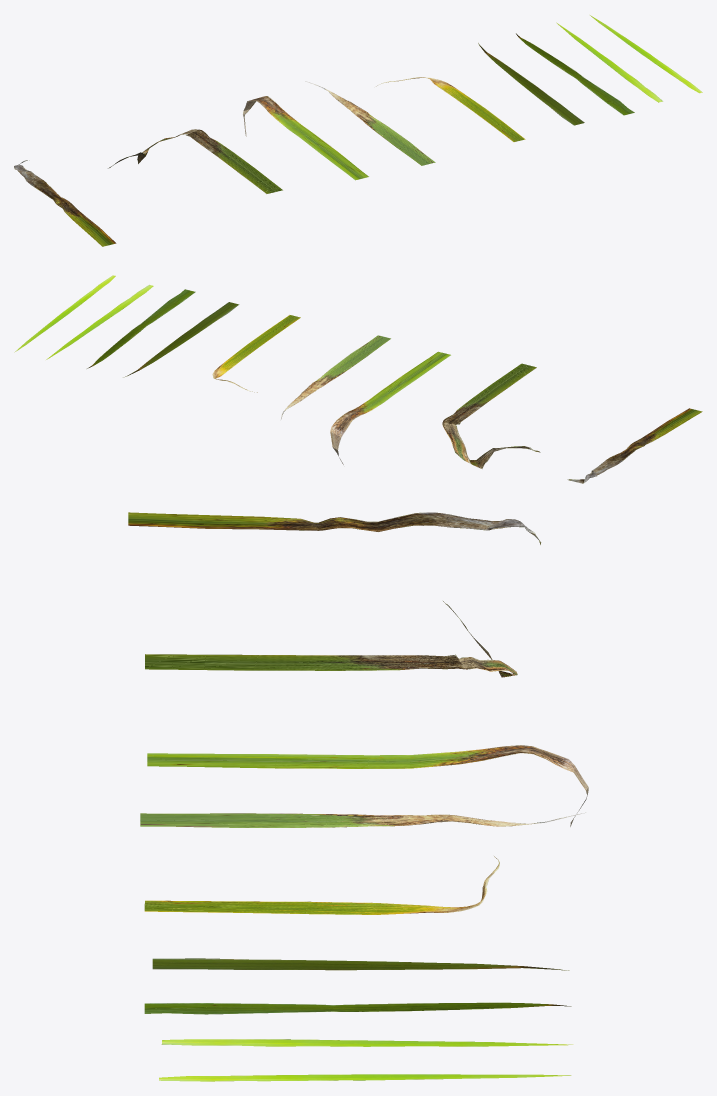
File: ryncho_v2.fbx
3 renders of one model, top to bottom at view 1: azimuth 30°, elevation 25°; view 2: azimuth 150°, elevation 25°; view 3: azimuth 270°, elevation 25°, orthographic. The views are drawn at different scales.
Parts seen in each view (by area): view 1: 7Ryncho (1), 9Ryncho (1), 9Ryncho (2), 5Ryncho (1), 3Ryncho (1), 1Ryncho (1), 1Ryncho (2), 0Ryncho (2), 0Ryncho (1); view 2: 9Ryncho (1), 7Ryncho (1), 9Ryncho (2), 5Ryncho (1), 3Ryncho (1), 1Ryncho (1), 1Ryncho (2), 0Ryncho (2), 0Ryncho (1); view 3: 7Ryncho (1), 9Ryncho (1), 9Ryncho (2), 5Ryncho (1), 3Ryncho (1), 1Ryncho (1), 1Ryncho (2), 0Ryncho (2), 0Ryncho (1).
Boxes of the visible parts, <box> form: 7Ryncho (1): <box>243,96,360,173</box>; 9Ryncho (1): <box>108,129,275,188</box>; 9Ryncho (2): <box>14,160,108,239</box>; 5Ryncho (1): <box>305,81,426,159</box>; 3Ryncho (1): <box>376,77,518,136</box>; 1Ryncho (1): <box>516,33,628,111</box>; 1Ryncho (2): <box>478,43,572,116</box>; 0Ryncho (2): <box>556,22,653,95</box>; 0Ryncho (1): <box>590,15,693,87</box>; 9Ryncho (1): <box>442,368,540,468</box>; 7Ryncho (1): <box>330,358,441,464</box>; 9Ryncho (2): <box>567,414,692,483</box>; 5Ryncho (1): <box>281,341,382,419</box>; 3Ryncho (1): <box>212,320,293,392</box>; 1Ryncho (1): <box>87,293,189,368</box>; 1Ryncho (2): <box>123,310,227,377</box>; 0Ryncho (2): <box>46,291,145,359</box>; 0Ryncho (1): <box>14,282,109,352</box>; 7Ryncho (1): <box>182,745,588,826</box>; 9Ryncho (1): <box>172,601,517,677</box>; 9Ryncho (2): <box>162,512,541,544</box>; 5Ryncho (1): <box>174,812,585,827</box>; 3Ryncho (1): <box>172,856,499,914</box>; 1Ryncho (1): <box>167,1002,571,1014</box>; 1Ryncho (2): <box>199,958,569,970</box>; 0Ryncho (2): <box>198,1039,573,1046</box>; 0Ryncho (1): <box>190,1074,571,1081</box>.
Size of the model in its own units: 3.06 by 0.2267 by 1.05.
Materials: 9 (9 with a texture image).
